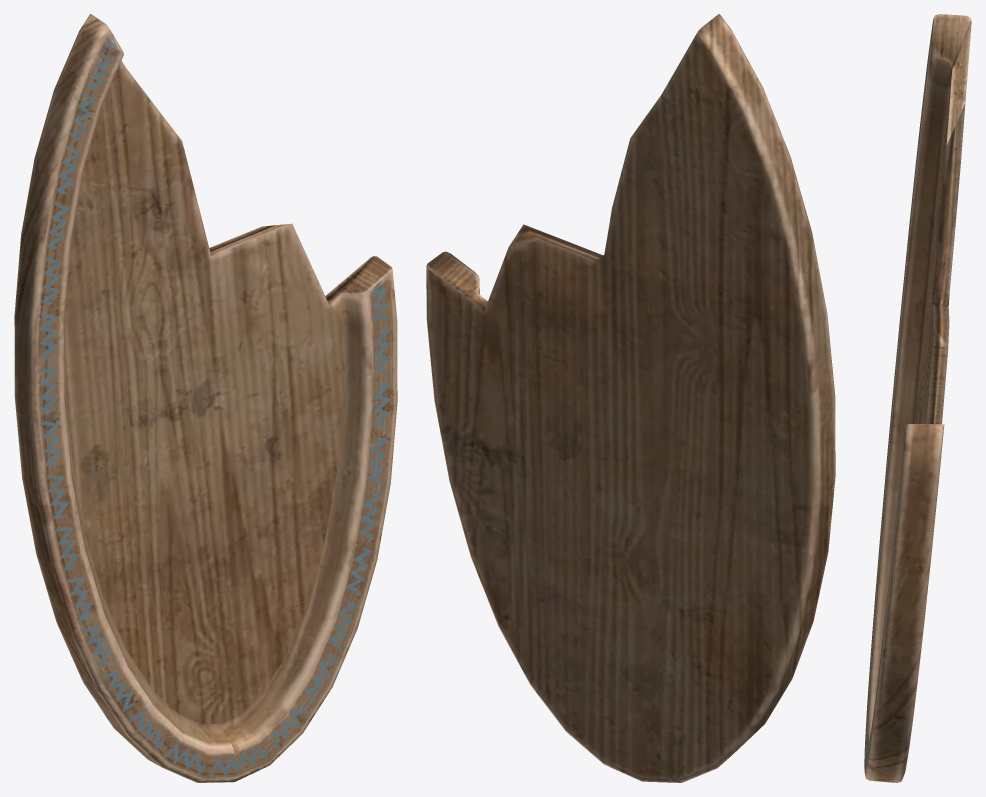
3 views of the same model, side by side, from view 1: azimuth 30°, elevation 25°; view 2: azimuth 150°, elevation 25°; view 3: azimuth 270°, elevation 25° (orthographic). The views are drawn at different scales.
Parts seen in each view (by area): view 1: SM_Circle_of_Mirror_Frame_Dmg_01_LOD0; view 2: SM_Circle_of_Mirror_Frame_Dmg_01_LOD0; view 3: SM_Circle_of_Mirror_Frame_Dmg_01_LOD0.
Part boxes in pixels (x1,y1,x2,y2): SM_Circle_of_Mirror_Frame_Dmg_01_LOD0: (14,14,397,782); SM_Circle_of_Mirror_Frame_Dmg_01_LOD0: (426,14,835,782); SM_Circle_of_Mirror_Frame_Dmg_01_LOD0: (864,14,971,782).
Bounding box in the file's own units: 0.7971 × 1.57 × 0.2136.
1 material, 1 textured.
